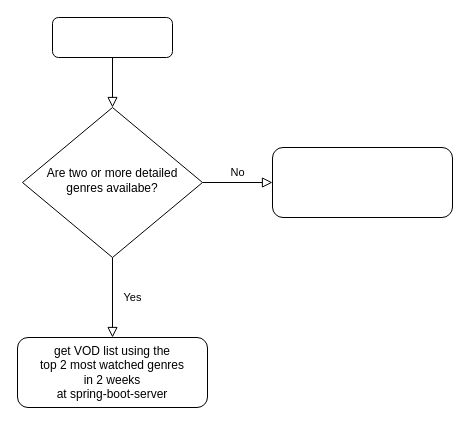
The diagram is 470 pixels wide and 425 high, and some of its shapes have lost their labels. The centre of each missing label's shape, as x and y in pixels:
item based collaborative filtering at flask-server: point (362, 182)
request stbId/time: point (112, 37)
